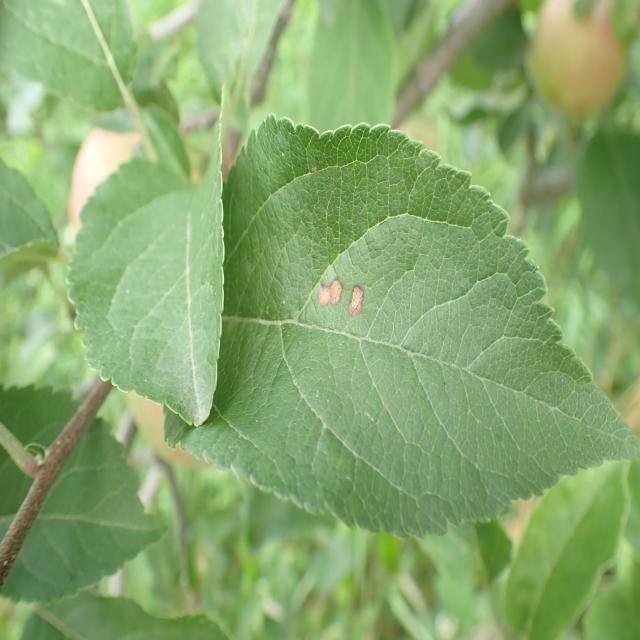Black Rot: (299, 259, 345, 320), (345, 278, 374, 329)
